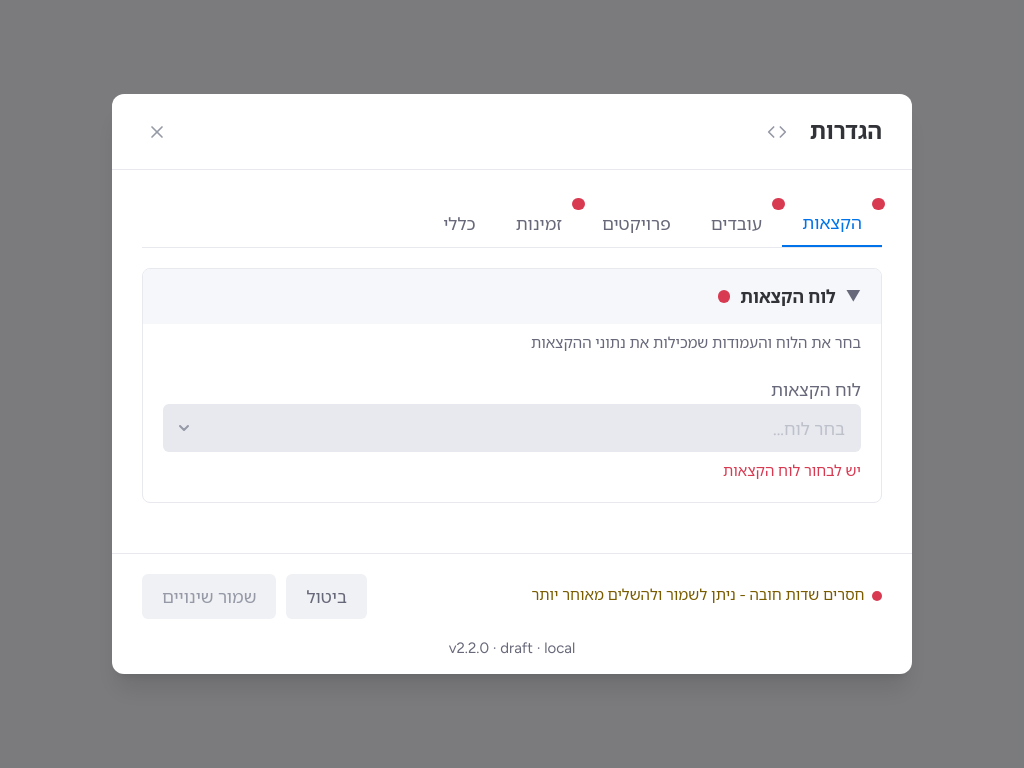
Test: SettingsDialog — Day-off availability tab (W3.6) › kind label pickers cross-filter — a label already meaning personal is not offered as general
The image size is (1024, 768).
Click the button "זמינות" at (539, 224), box 496,200 -> 582,247
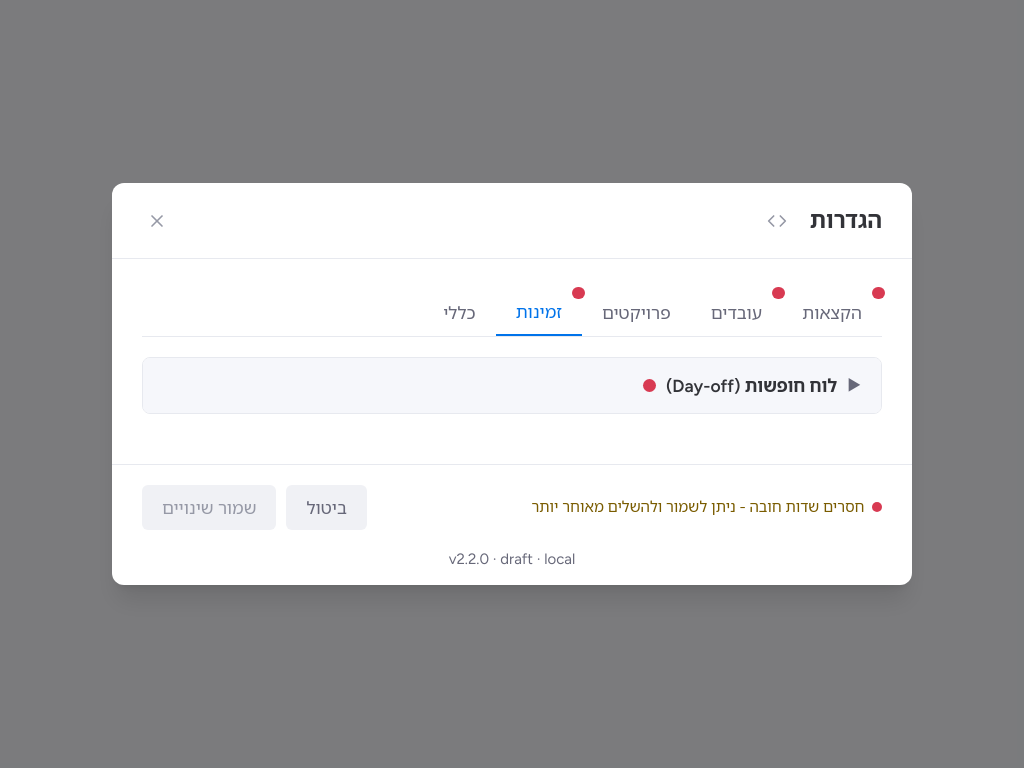
Click the heading "לוח חופשות (Day-off)" at (752, 386), box 666,373 -> 837,398
(page scrolled)
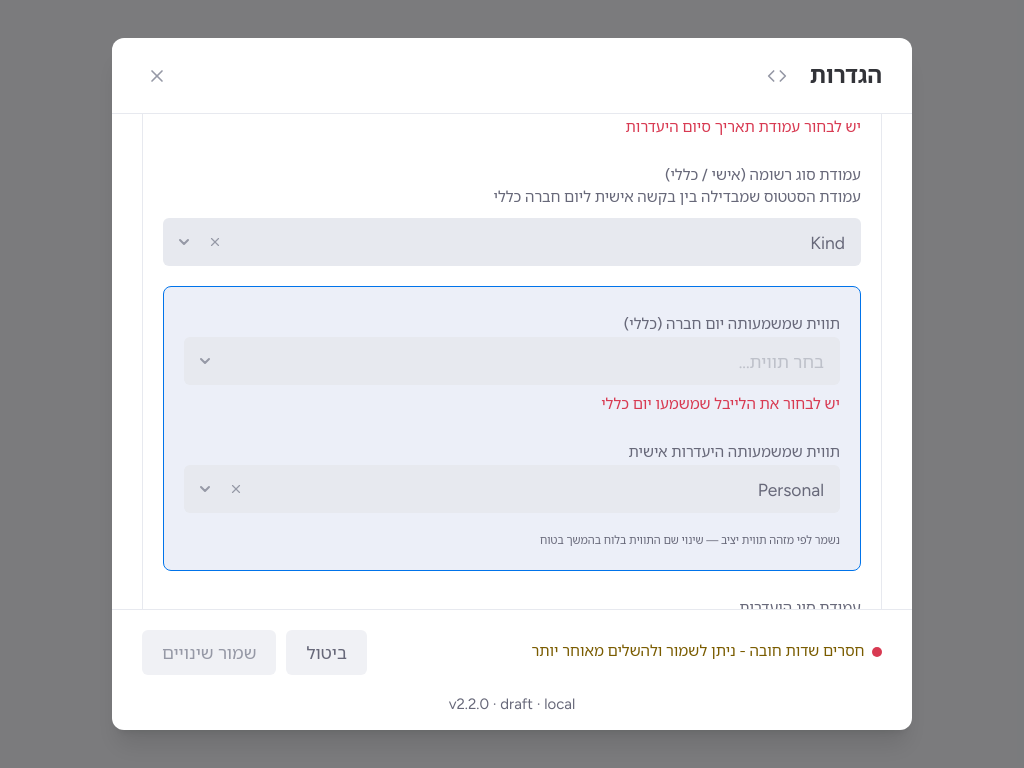
Result: the text "תווית שמשמעותה יום חברה (כללי)" is shown at 624,315 -> 840,333
Click the field with placeholder "בחר תווית..." at (512, 361), box 184,337 -> 840,385
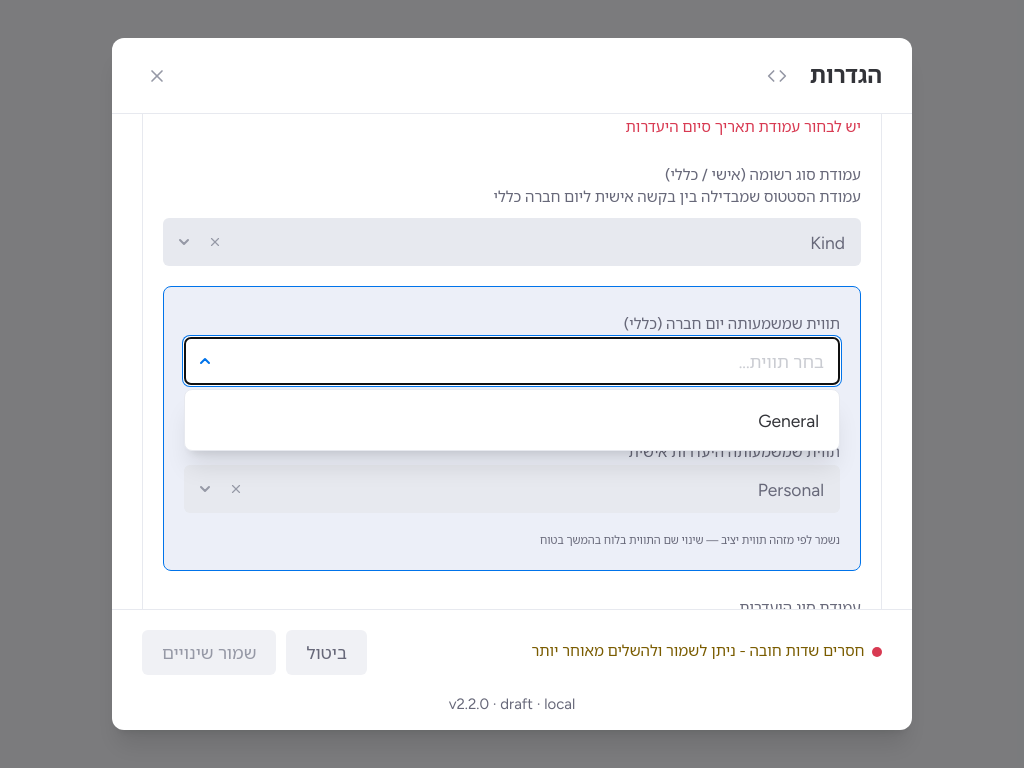
Result: the button "General" is shown at 185,395 -> 839,445
